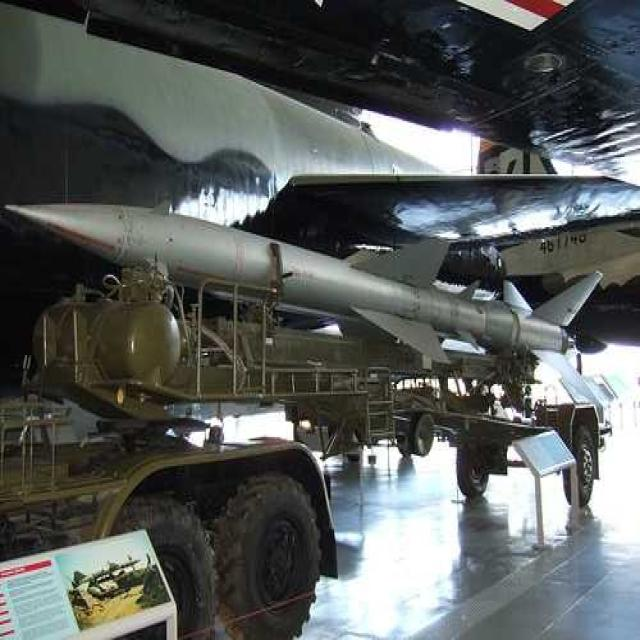missile: (6, 200, 610, 405)
